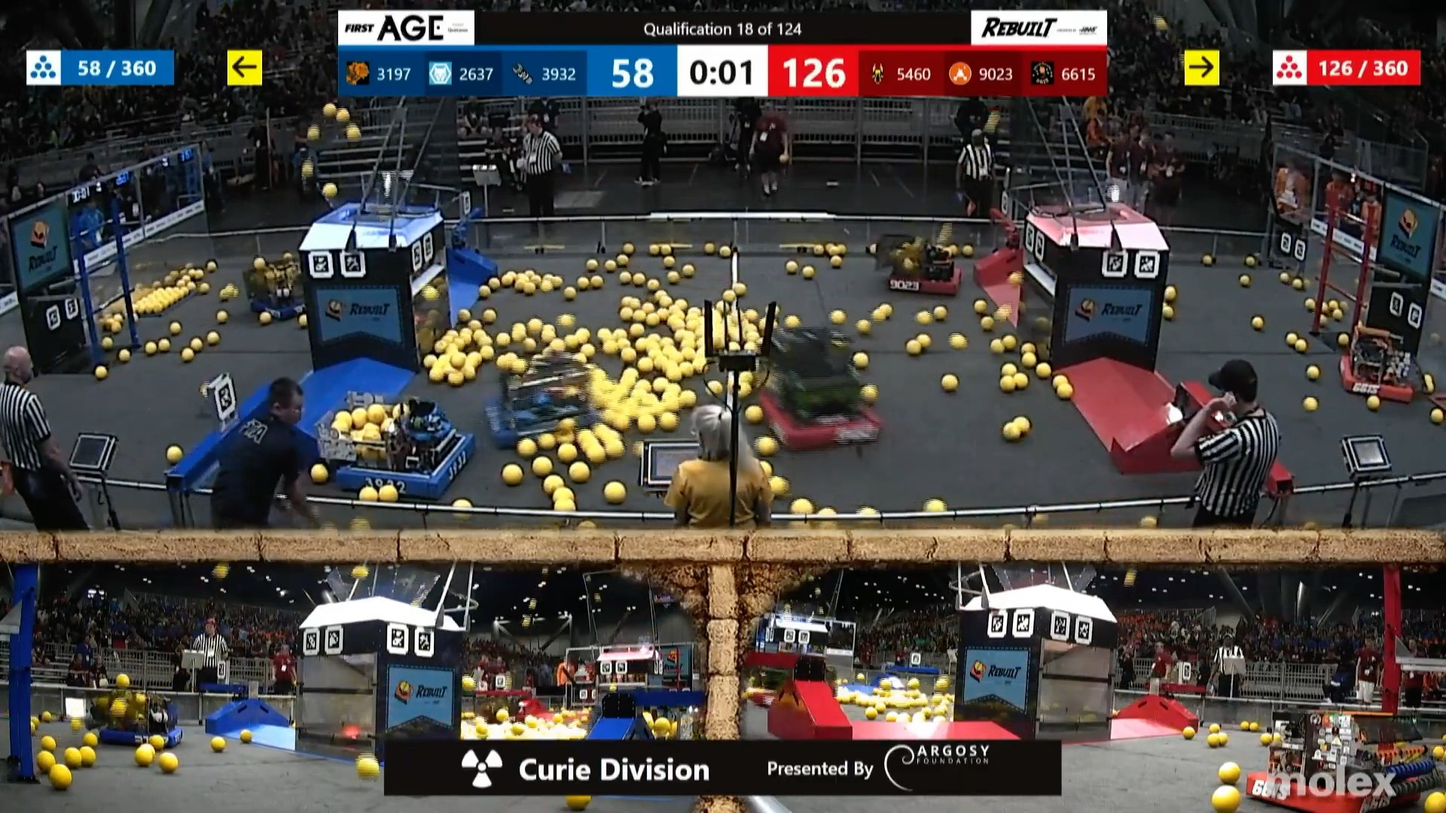bumpers: (776, 676, 1051, 744), (331, 435, 478, 501), (1249, 766, 1434, 813), (749, 397, 884, 455), (479, 394, 604, 446), (1322, 349, 1428, 410), (93, 711, 196, 754), (877, 262, 972, 299), (240, 290, 328, 324)
